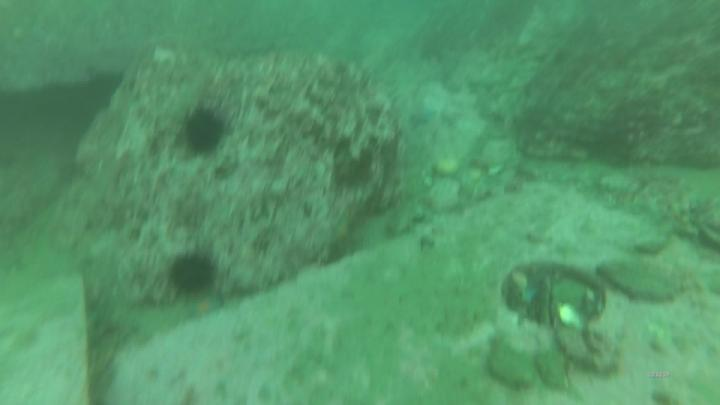echinus: (161, 246, 221, 298), (179, 104, 234, 158)
starfish: (409, 104, 438, 129)
